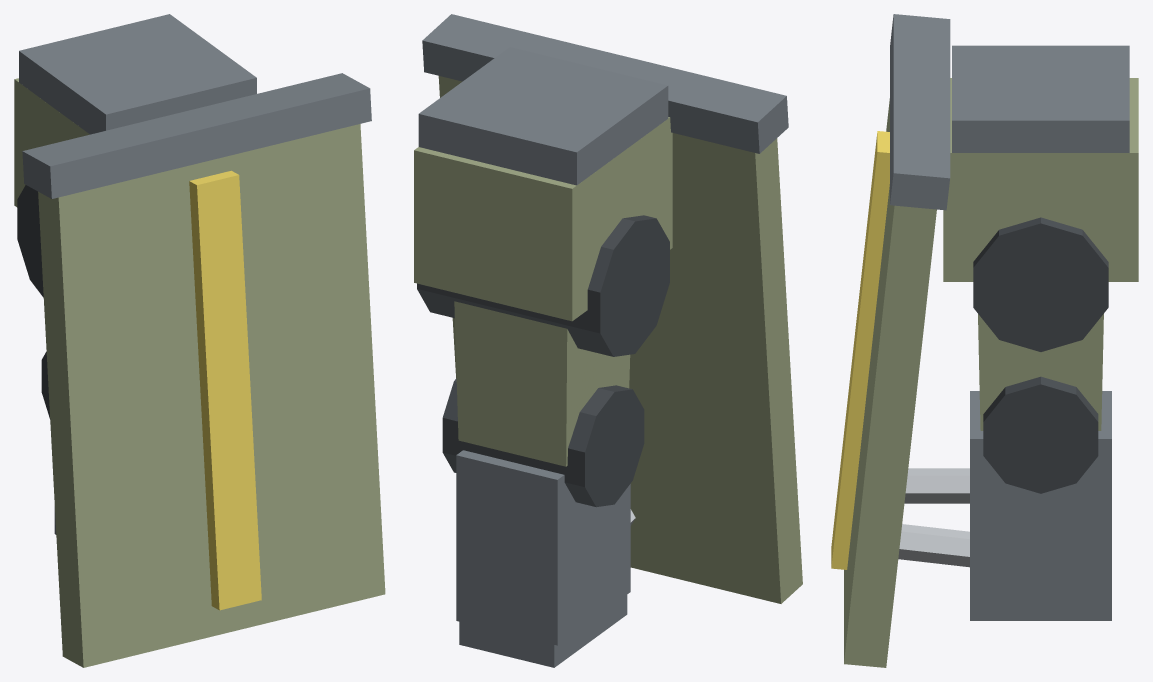
The model's file is mech-hangar-and-battle-frames-shield-arm-1eaebe3b__26862.glb.
3 renders of one model, left to right at view 1: azimuth 30°, elevation 25°; view 2: azimuth 150°, elevation 25°; view 3: azimuth 270°, elevation 25°, orthographic. The views are drawn at different scales.
Parts seen in each view (by area): view 1: elbow (×3), shield-arm; view 2: elbow (×3), shield-arm; view 3: elbow (×5), shield-arm.
Part boxes in pixels (left/top/right/bottom): elbow (×3): left=22, top=73, right=385, bottom=667; shield-arm: left=14, top=14, right=256, bottom=297; elbow (×3): left=422, top=14, right=802, bottom=667; shield-arm: left=414, top=47, right=672, bottom=466; elbow (×5): left=831, top=14, right=1111, bottom=667; shield-arm: left=943, top=45, right=1138, bottom=430.
Bounding box in the file's own units: 1.06 × 1.6 × 0.8648.
